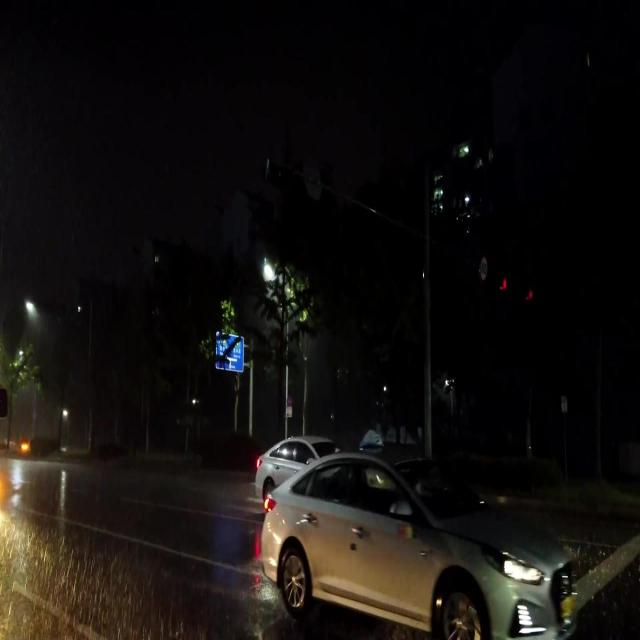Car: (257, 454, 572, 639)
